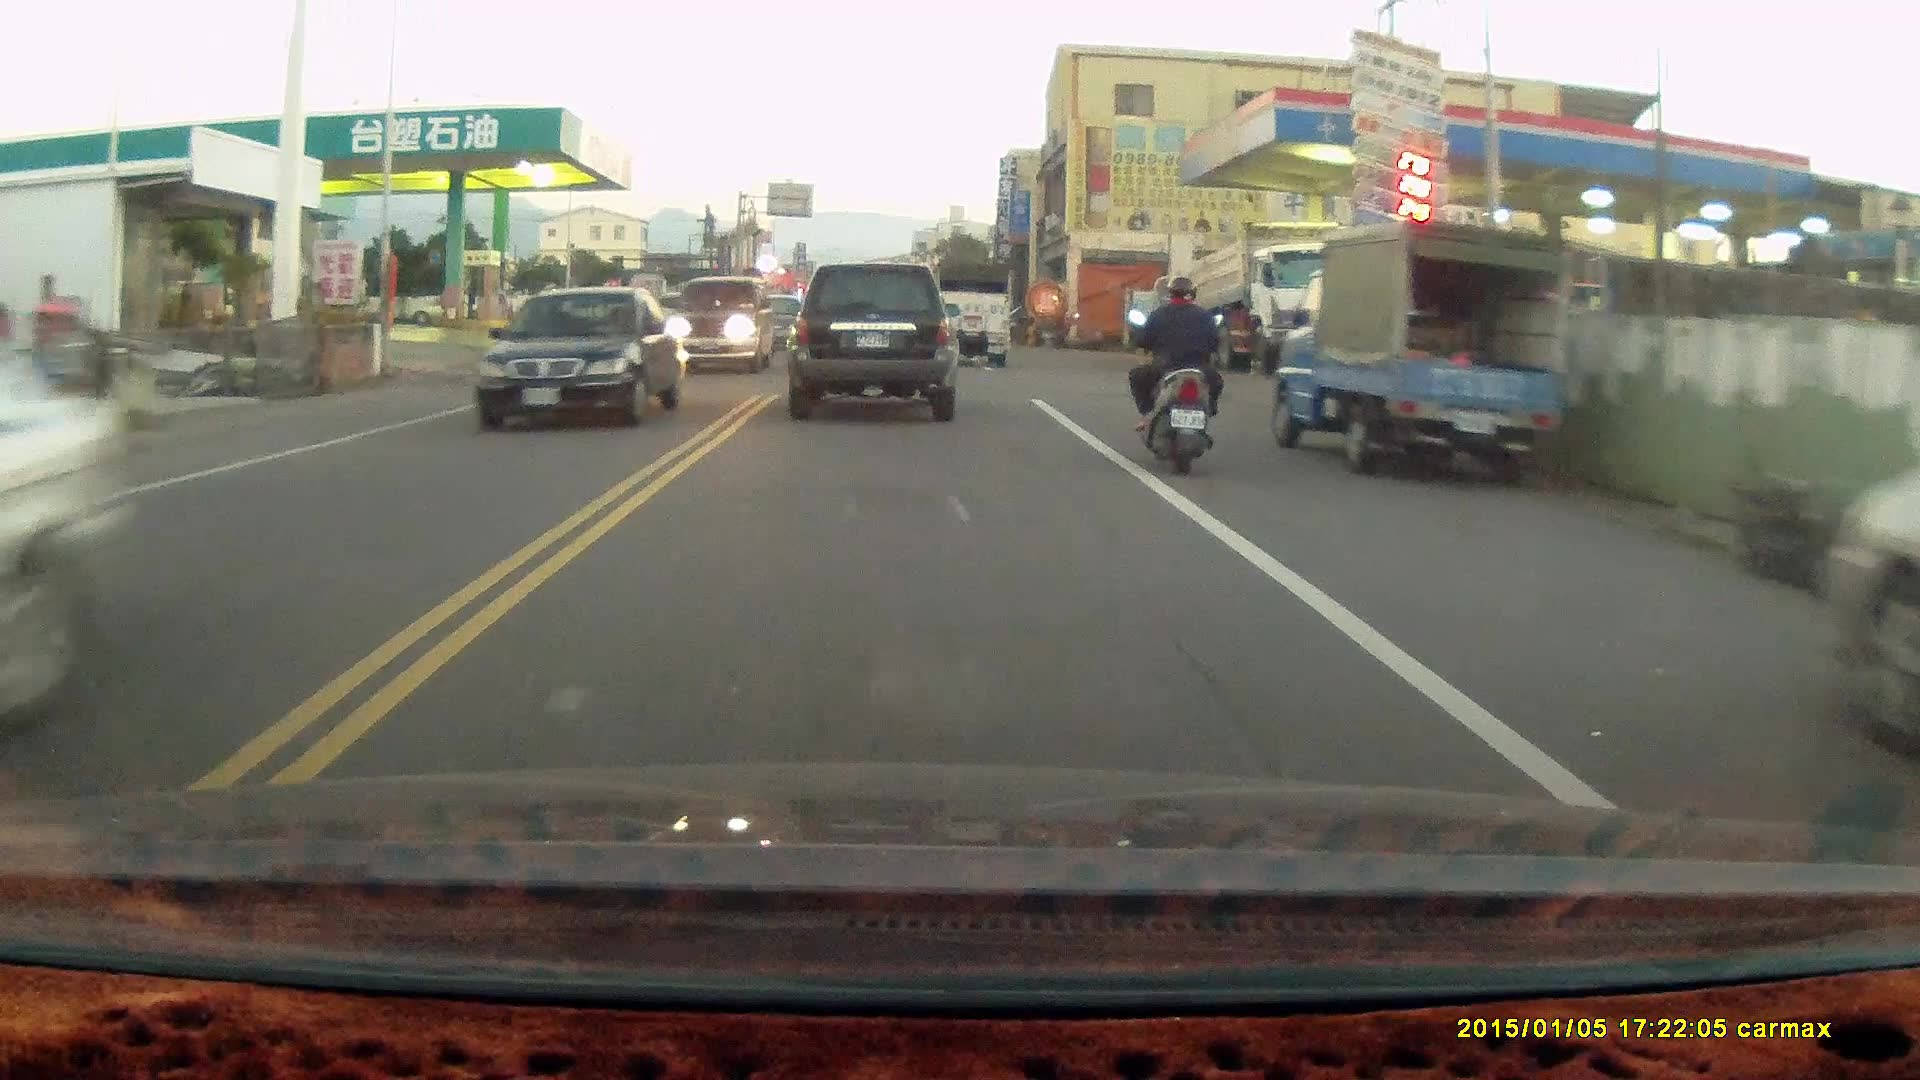rider: (1128, 277, 1228, 479)
vehicle: (1273, 222, 1585, 476), (477, 288, 694, 430), (788, 261, 958, 417), (665, 275, 780, 380), (920, 253, 1015, 364)
